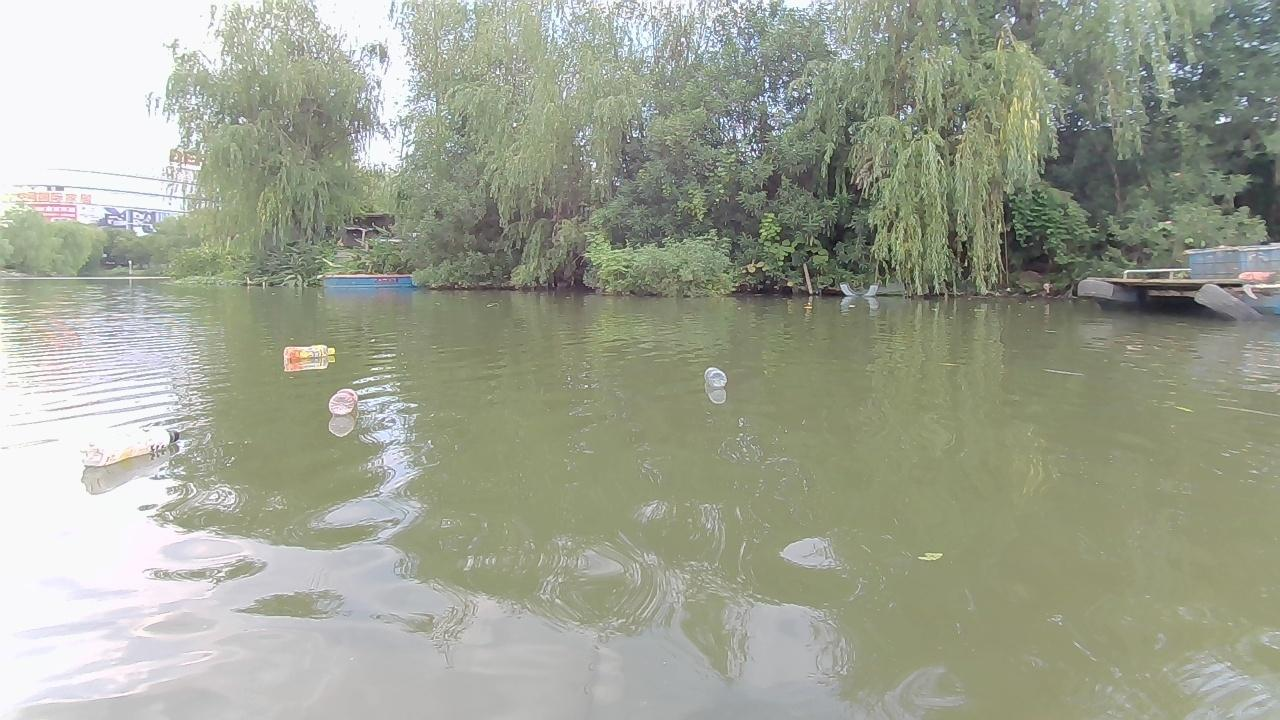bottle: (79, 425, 183, 467), (282, 344, 338, 362), (326, 388, 357, 413), (701, 365, 726, 386)
